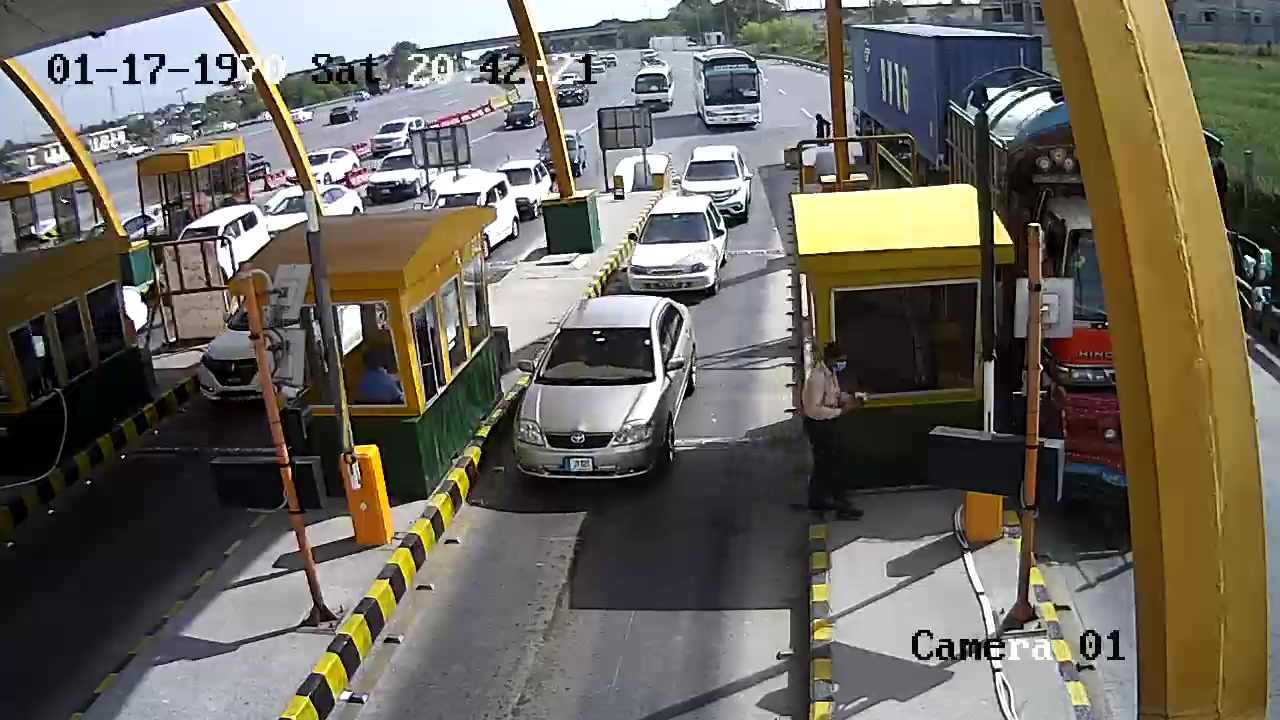F1: (496, 286, 711, 525)
